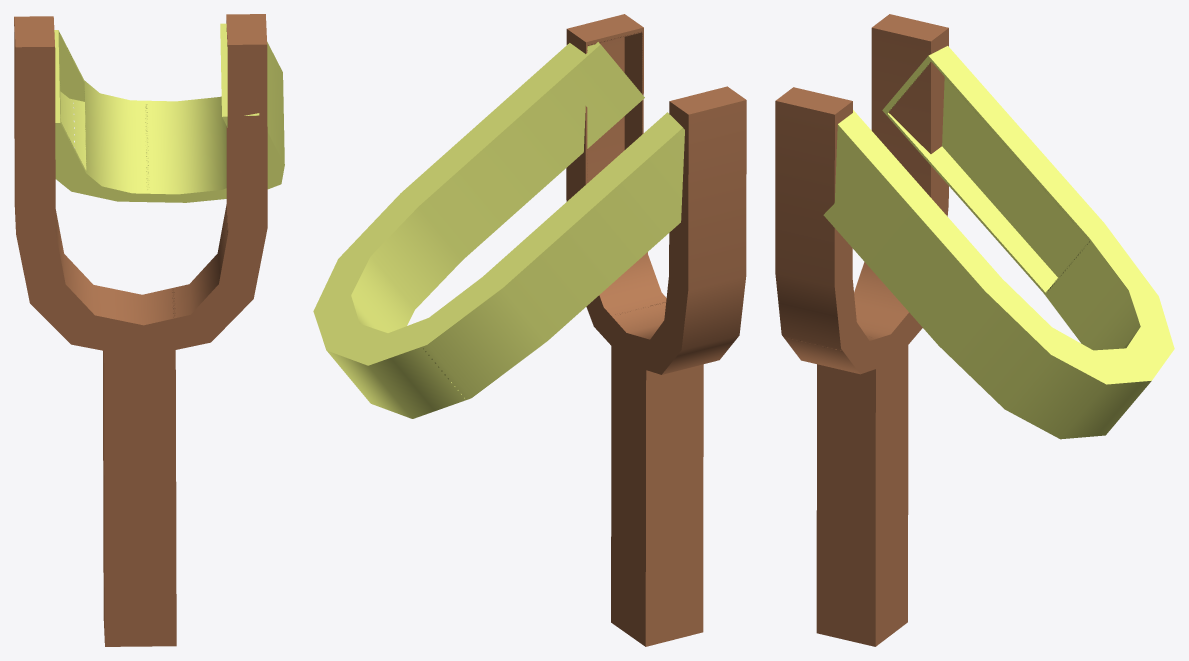
The model's file is shot.fbx.
The picture shows the model from 3 angles, left to right: view 1: azimuth 30°, elevation 25°; view 2: azimuth 150°, elevation 25°; view 3: azimuth 270°, elevation 25°; orthographic projection. The views are drawn at different scales.
Visible parts, largest first — view 1: node_id34, node_id31, node_id37; view 2: node_id37, node_id34, node_id31; view 3: node_id37, node_id34, node_id31.
Part boxes in pixels (left/top/right/bottom): node_id34: left=14, top=14, right=267, bottom=350; node_id31: left=103, top=347, right=176, bottom=646; node_id37: left=54, top=23, right=284, bottom=202; node_id37: left=313, top=42, right=684, bottom=418; node_id34: left=566, top=14, right=746, bottom=374; node_id31: left=611, top=346, right=703, bottom=646; node_id37: left=823, top=46, right=1174, bottom=439; node_id34: left=775, top=14, right=948, bottom=374; node_id31: left=816, top=345, right=908, bottom=646.
Bounding box in the file's own units: 0.3119 × 0.512 × 0.3286.
3 materials, 3 textured.
